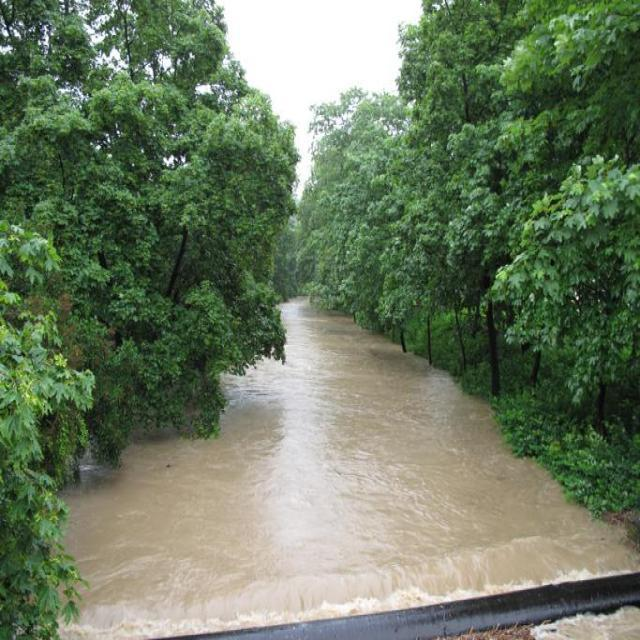flood: (51, 285, 640, 640)
